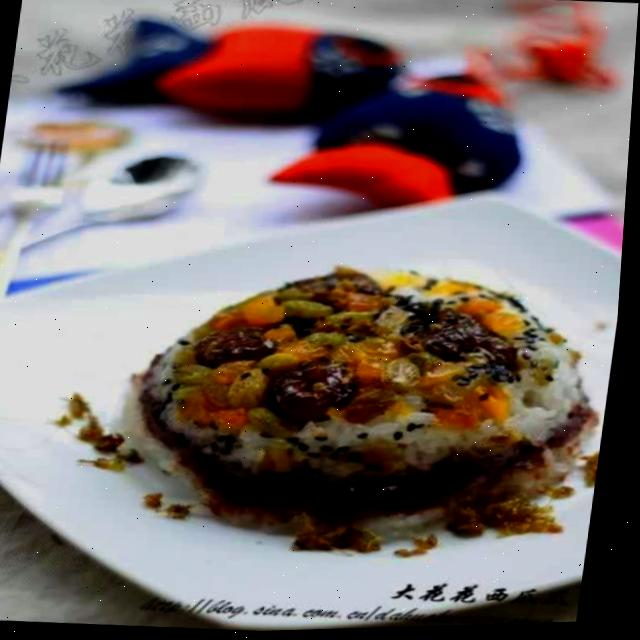米饭主食: (100, 226, 627, 586)
